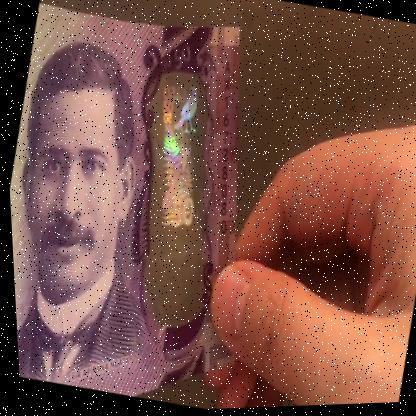50F: (110, 75, 231, 316)
